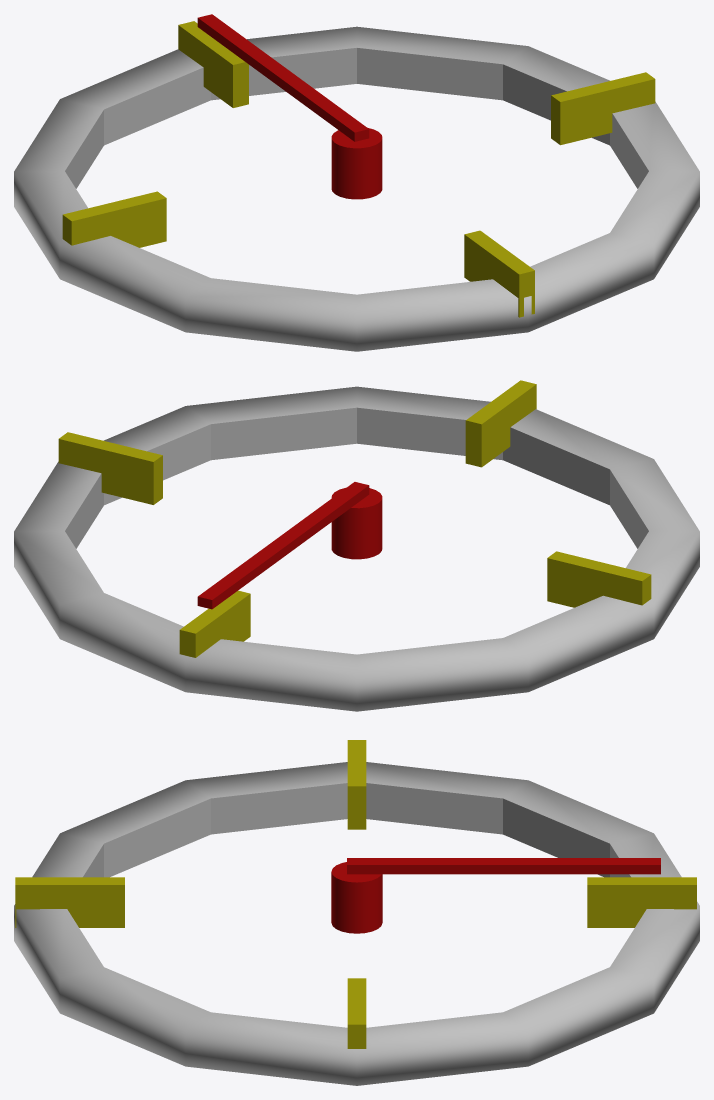
The model's file is clock.fbx.
The picture shows the model from 3 angles, top to bottom: view 1: azimuth 30°, elevation 25°; view 2: azimuth 150°, elevation 25°; view 3: azimuth 270°, elevation 25°; orthographic projection.
Parts seen in each view (by area): view 1: pCylinder3, pCube4, pCube3, pCube5, pasted__pCube4, pCylinder2, pasted__pasted__pCube4; view 2: pCylinder3, pCube4, pCube3, pCube5, pasted__pasted__pCube4, pasted__pCube4, pCylinder2; view 3: pCylinder3, pCube5, pasted__pCube4, pasted__pasted__pCube4, pCylinder2, pCube3, pCube4.
Part boxes in pixels (x1,y1,x2,y2): pCylinder3: (14, 26, 699, 351); pCube4: (551, 72, 655, 145); pCube3: (62, 191, 166, 247); pCube5: (197, 14, 369, 141); pasted__pCube4: (178, 21, 248, 107); pCylinder2: (331, 127, 382, 199); pasted__pasted__pCube4: (464, 230, 534, 317); pCylinder3: (14, 386, 699, 711); pCube4: (58, 432, 162, 504); pCube3: (547, 551, 651, 607); pCube5: (197, 482, 369, 609); pasted__pasted__pCube4: (465, 380, 536, 467); pasted__pCube4: (179, 590, 250, 657); pCylinder2: (331, 488, 382, 559); pCylinder3: (14, 762, 699, 1085); pCube5: (347, 858, 660, 874); pasted__pCube4: (587, 877, 696, 927); pasted__pasted__pCube4: (15, 877, 124, 927); pCylinder2: (331, 862, 382, 933); pCube3: (347, 740, 366, 829); pCube4: (347, 978, 366, 1048).
Size of the model in its own units: 2 by 0.2576 by 2.
